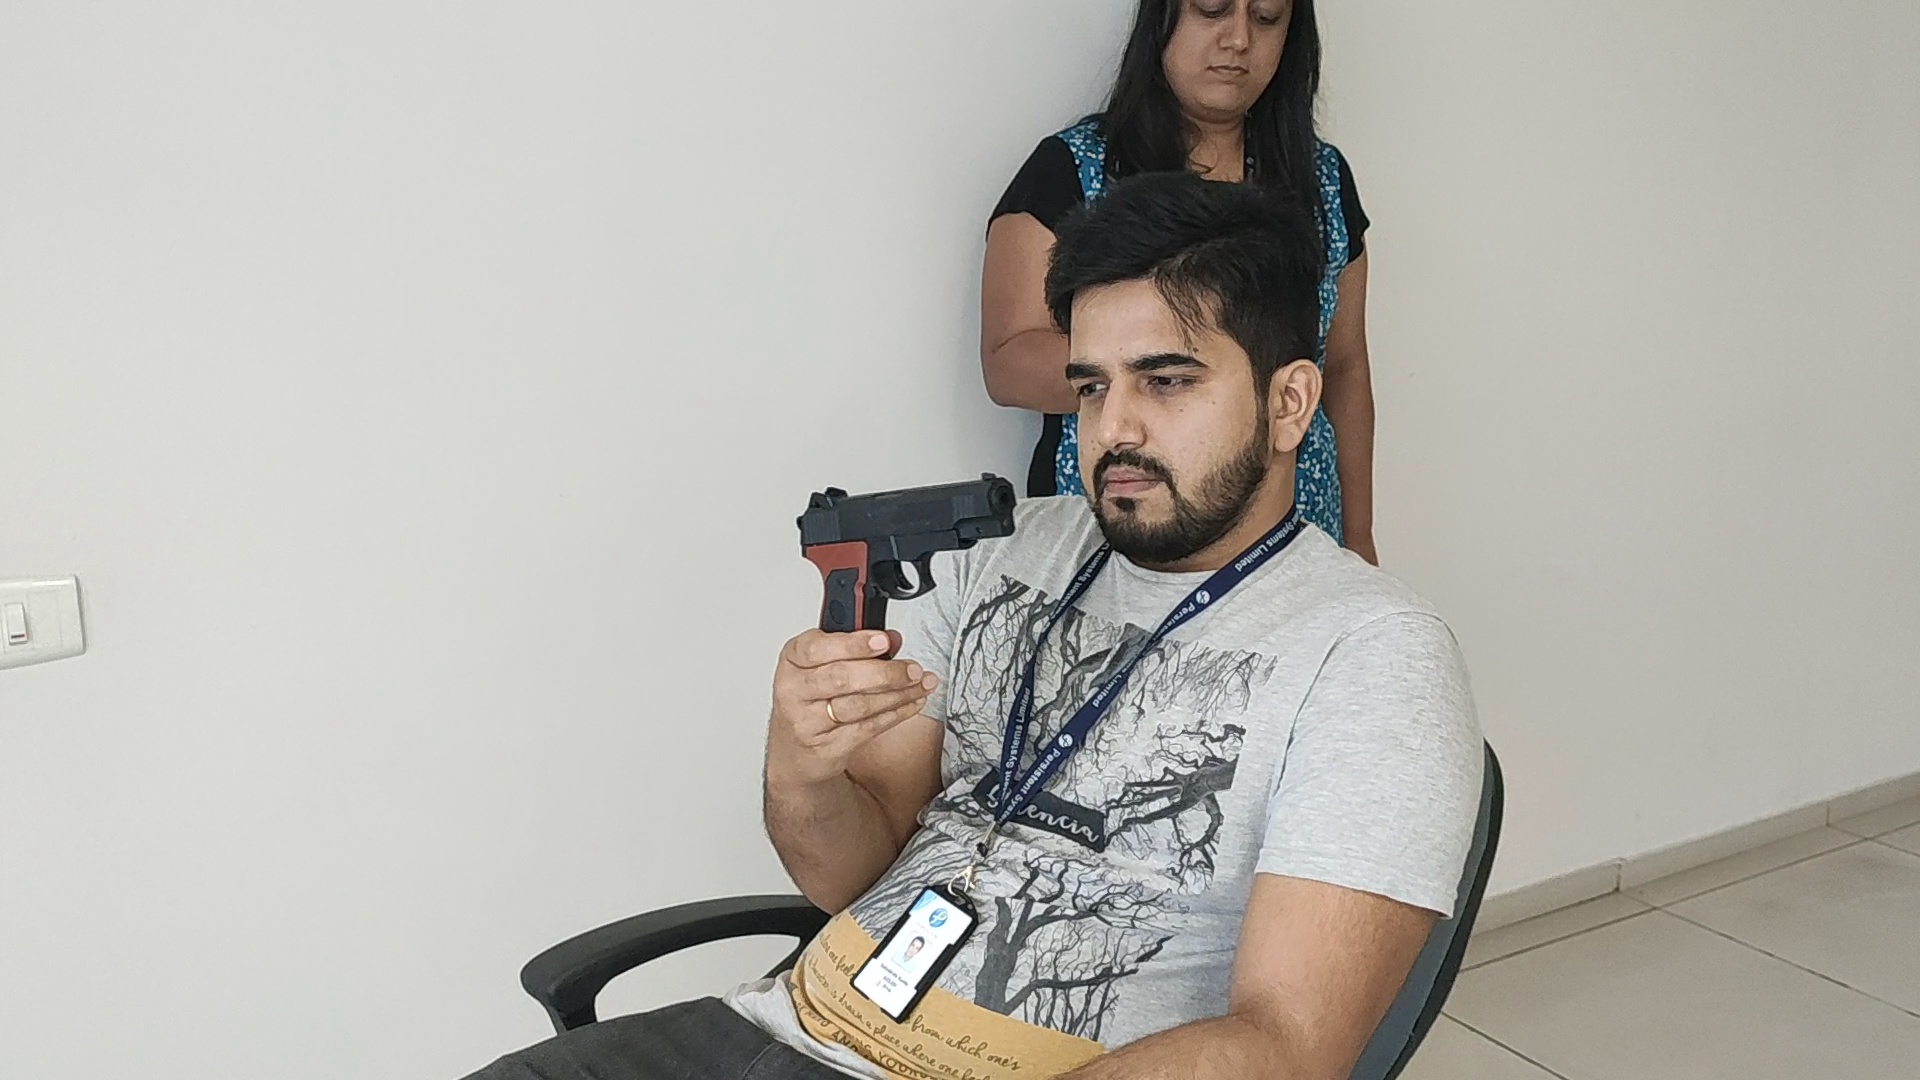gun: (796, 473, 1017, 628)
